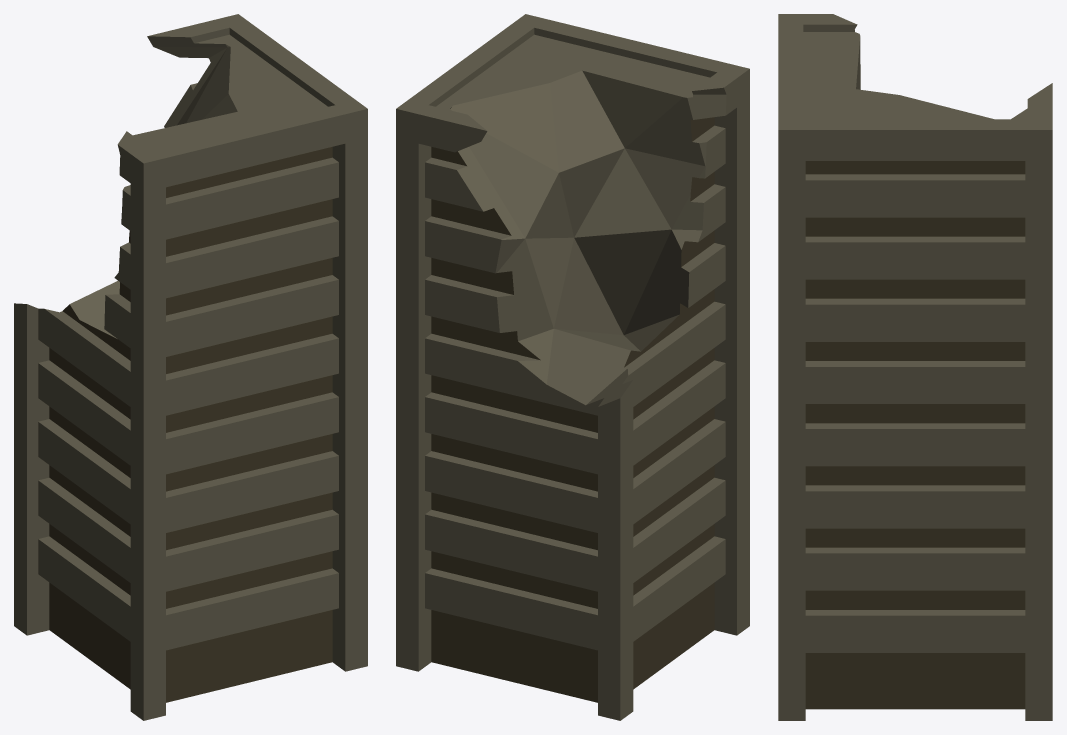
The model's file is building2.fbx.
3 renders of one model, left to right at view 1: azimuth 30°, elevation 25°; view 2: azimuth 150°, elevation 25°; view 3: azimuth 270°, elevation 25°, orthographic. The views are drawn at different scales.
Parts seen in each view (by area): view 1: Cube.005; view 2: Cube.005; view 3: Cube.005.
Boxes of the visible parts, x1,y1,x2,y2 form: Cube.005: (14,14,367,720); Cube.005: (396,14,749,720); Cube.005: (778,14,1052,720).
Size of the model in its own units: 400 by 950 by 400.
